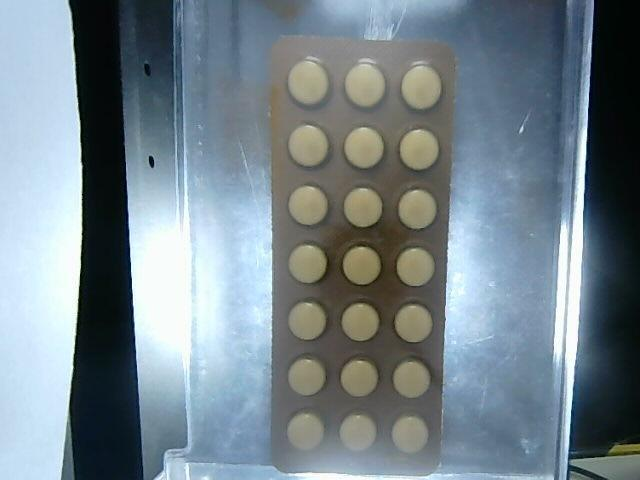Light Front: (267, 35, 458, 478)
Pill Front: (282, 53, 338, 108), (339, 181, 390, 236), (341, 118, 389, 175), (387, 409, 437, 461), (395, 123, 443, 176), (342, 57, 388, 111), (398, 58, 444, 112), (284, 120, 334, 169), (393, 184, 443, 232), (279, 408, 329, 456), (284, 350, 331, 399), (287, 179, 333, 229), (335, 407, 381, 457), (387, 354, 434, 402), (338, 296, 385, 343), (338, 242, 386, 288), (285, 240, 331, 287), (284, 297, 331, 343), (389, 298, 435, 345), (337, 353, 383, 400), (392, 243, 437, 290)
